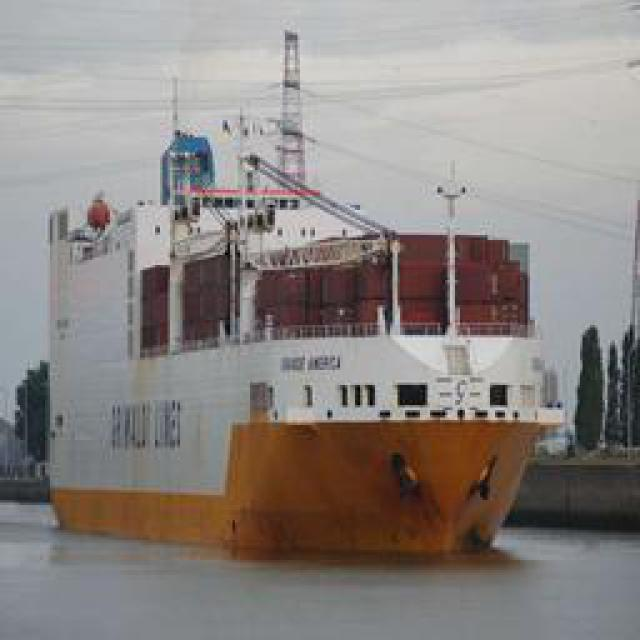Ship: (33, 76, 571, 559)
